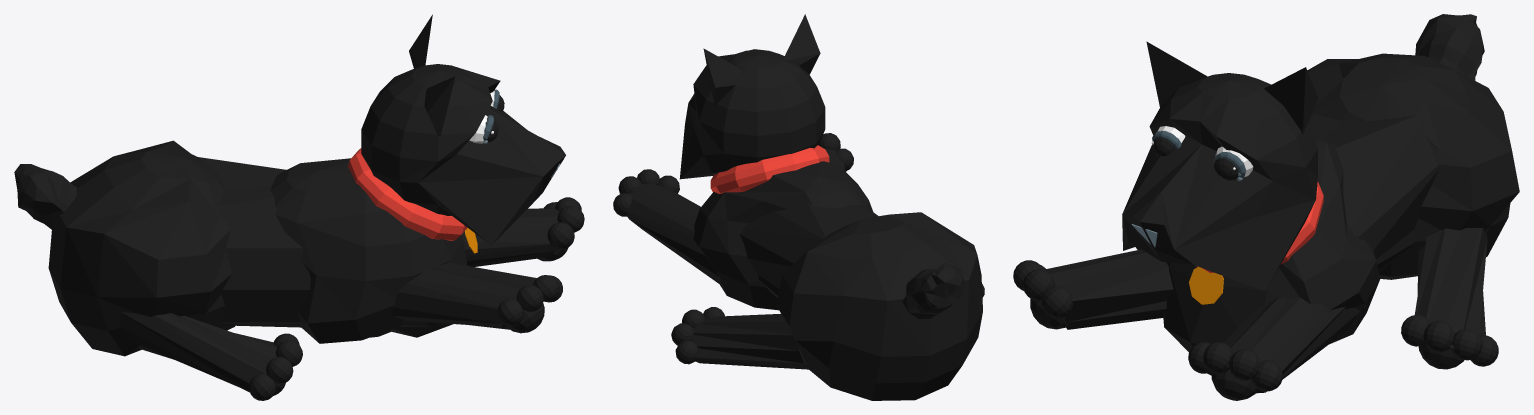
Rendered from dog1.obj.
The picture shows the model from 3 angles, left to right: view 1: azimuth 30°, elevation 25°; view 2: azimuth 150°, elevation 25°; view 3: azimuth 270°, elevation 25°; orthographic projection. The views are drawn at different scales.
Visible parts, largest first — view 1: group324271865, group1802304515, group232954648, group1629056283, group1169898872, group661027931, group338773787, group596616748, group2140355464, group1904539245, group1670716635, group1854115562 (+2 smaller); view 2: group324271865, group1802304515, group232954648, group1629056283, group1832581561, group338773787, group596616748, group2140355464, group975496899, group1854115562, group1863906816, group1649856869 (+1 smaller); view 3: group1802304515, group324271865, group232954648, group1629056283, group661027931, group1832581561, group338773787, group1854115562, group975496899, group2140355464, group1904539245, group1649856869 (+3 smaller).
Part boxes in pixels (x1,y1,x2,y2): group324271865: [48, 140, 235, 356]; group1802304515: [361, 64, 565, 245]; group232954648: [270, 158, 467, 343]; group1629056283: [198, 157, 310, 327]; group1169898872: [118, 312, 291, 392]; group661027931: [393, 262, 536, 329]; group338773787: [461, 208, 559, 266]; group596616748: [348, 148, 467, 240]; group2140355464: [14, 164, 77, 230]; group1904539245: [497, 275, 562, 333]; group1670716635: [249, 333, 302, 400]; group1854115562: [537, 197, 584, 261]; group324271865: [776, 212, 982, 400]; group1802304515: [679, 49, 825, 179]; group232954648: [693, 161, 873, 310]; group1629056283: [739, 203, 878, 297]; group1832581561: [677, 314, 808, 369]; group338773787: [621, 183, 726, 285]; group596616748: [710, 145, 829, 193]; group2140355464: [902, 262, 964, 318]; group975496899: [671, 307, 724, 364]; group1854115562: [613, 169, 679, 216]; group1863906816: [783, 14, 820, 74]; group1649856869: [703, 48, 743, 105]; group1802304515: [1122, 73, 1317, 291]; group324271865: [1307, 53, 1519, 279]; group232954648: [1163, 135, 1379, 352]; group1629056283: [1308, 114, 1438, 273]; group661027931: [1044, 249, 1173, 329]; group1832581561: [1414, 228, 1487, 355]; group338773787: [1207, 297, 1365, 393]; group1854115562: [1188, 342, 1282, 400]; group975496899: [1401, 315, 1498, 369]; group2140355464: [1415, 14, 1484, 80]; group1904539245: [1013, 260, 1072, 329]; group1649856869: [1264, 67, 1317, 133].
Bounding box in the file's own units: 2.98 × 1.76 × 2.39.
